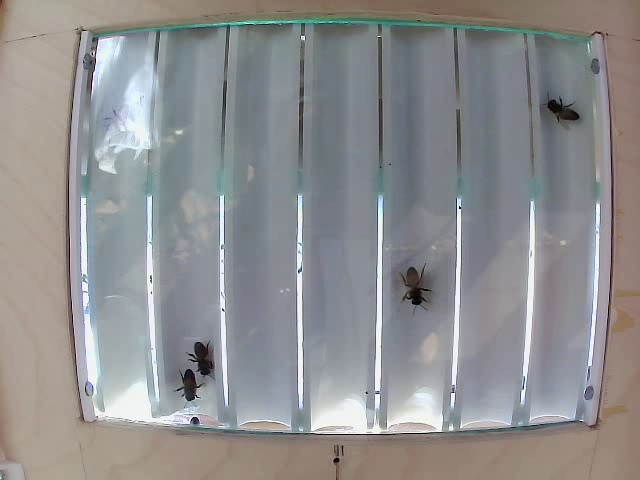bee: (392, 264, 443, 326), (542, 90, 593, 137), (176, 335, 231, 373), (177, 361, 212, 405)
